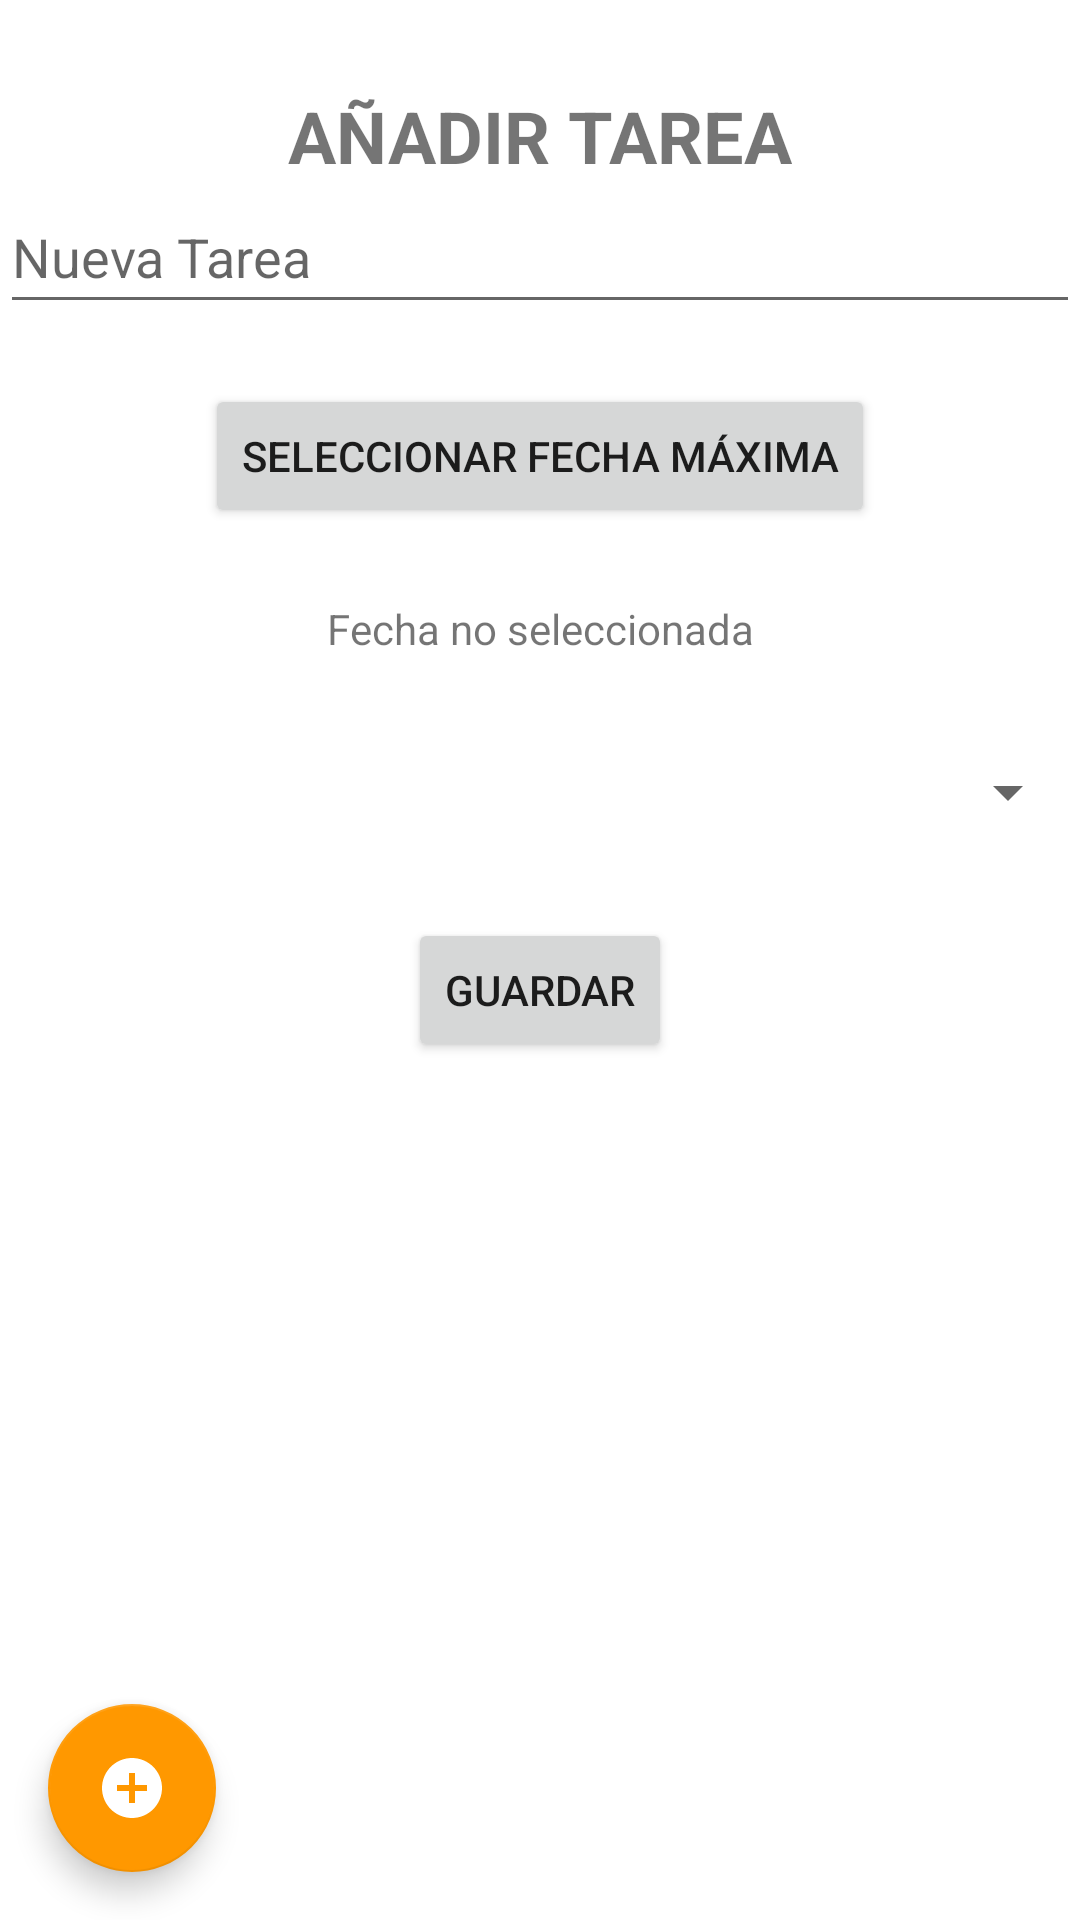

Named icons in this screenshot (1080w x 1920h) and their centers, (x=x, y=y):
add: (x=132, y=1788)
